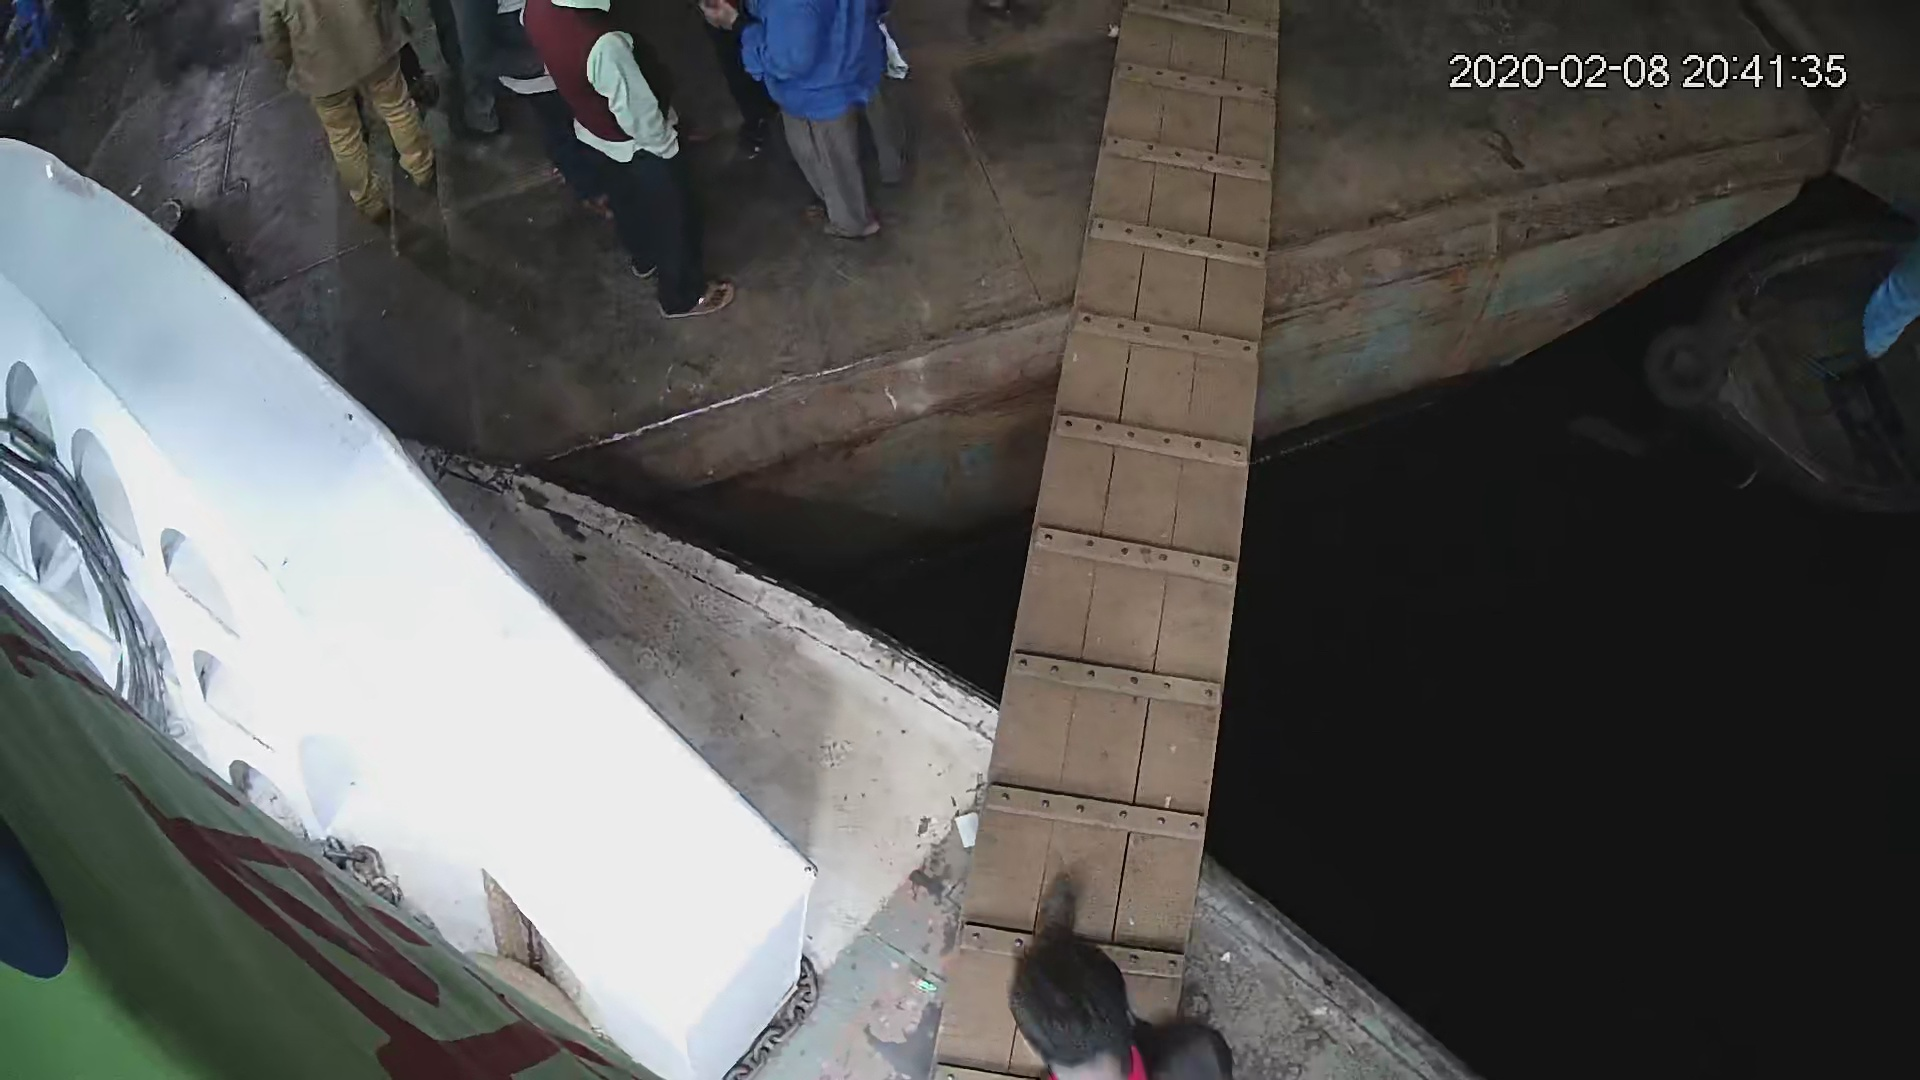person: (517, 1, 740, 326), (958, 888, 1233, 1080), (744, 7, 921, 253), (269, 1, 438, 224)
